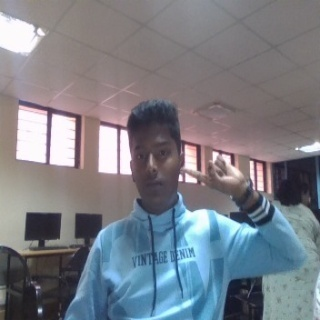Deaf: (180, 153, 247, 196)
Face: (126, 98, 186, 209)
